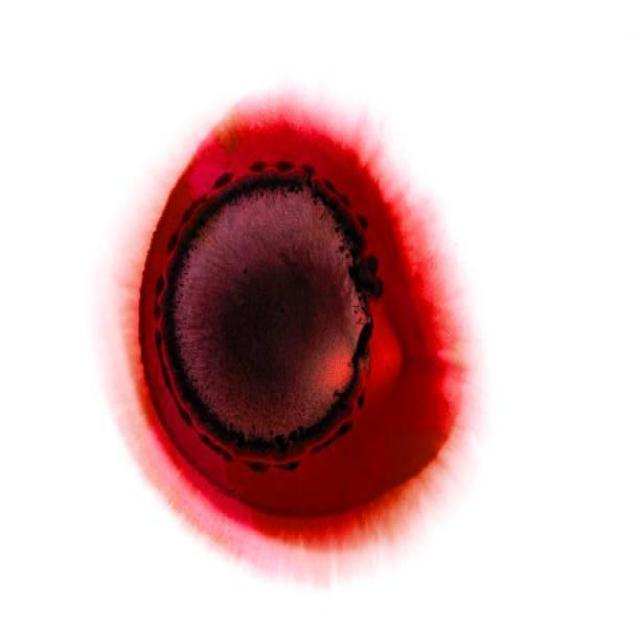flood: (120, 100, 480, 556)
